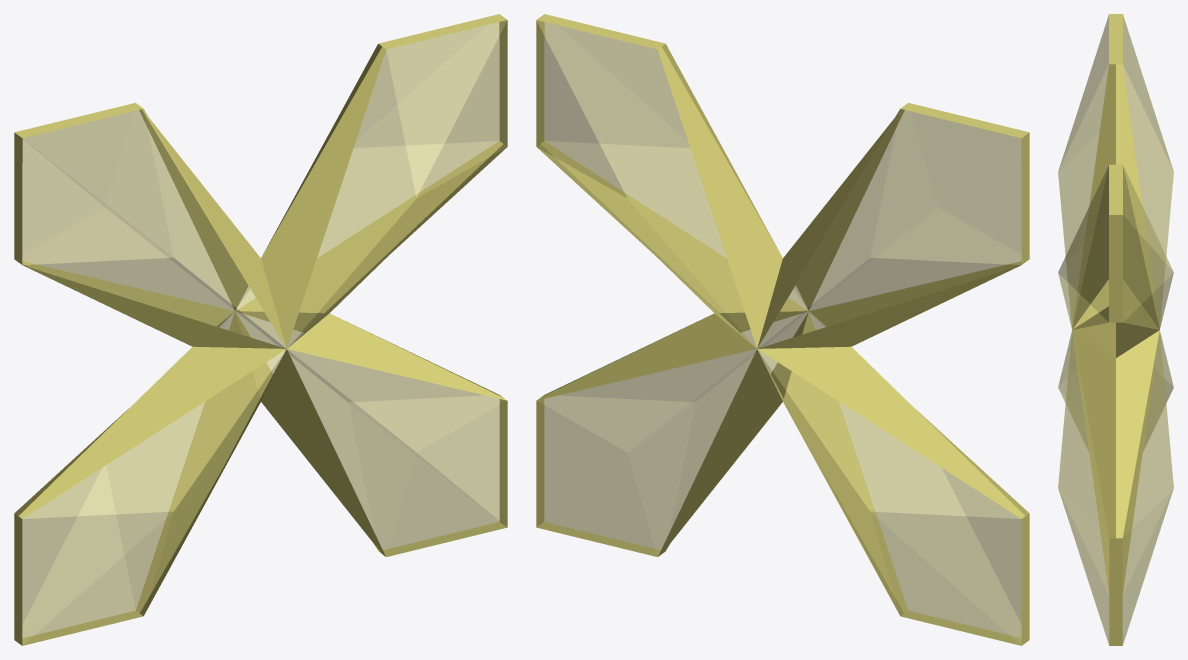
Rendered from Shiv-multiplier-pickup.fbx.
The picture shows the model from 3 angles, left to right: view 1: azimuth 30°, elevation 25°; view 2: azimuth 150°, elevation 25°; view 3: azimuth 270°, elevation 25°; orthographic projection. The views are drawn at different scales.
Visible parts, largest first — view 1: polySurface5; view 2: polySurface5; view 3: polySurface5.
Part boxes in pixels (x1,y1,x2,y2): polySurface5: (14,14,507,645); polySurface5: (536,14,1029,645); polySurface5: (1058,14,1173,645).
Size of the model in its own units: 1.85 by 1.85 by 0.4512.
